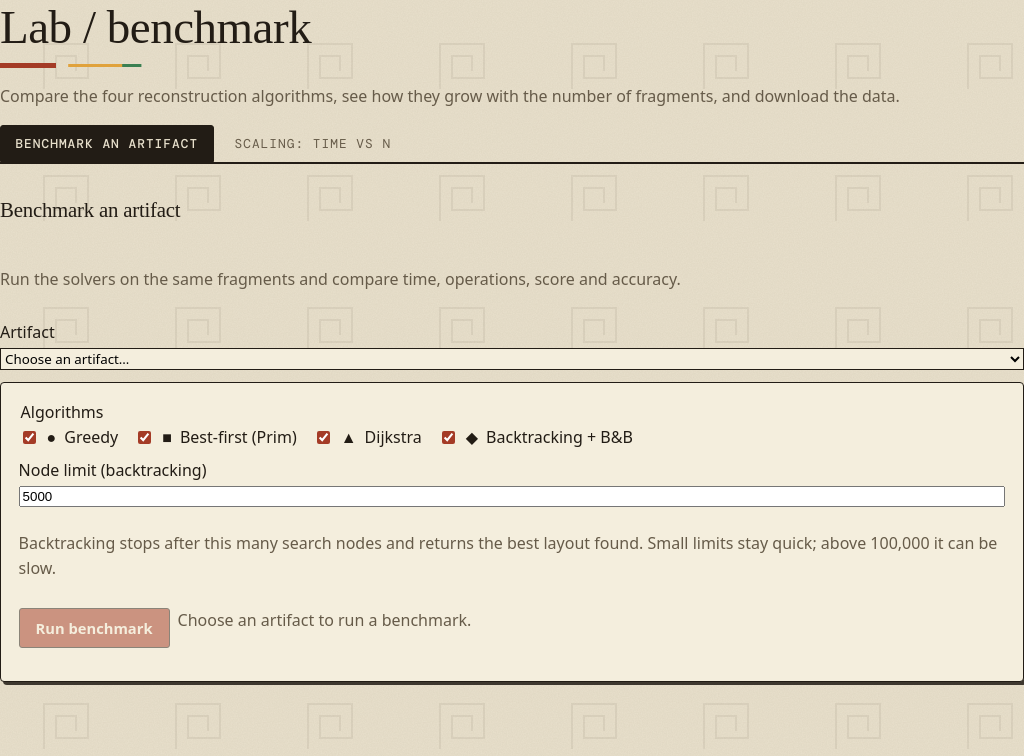
Test: LabPage: scaling › warns about large sizes
The image size is (1024, 756).
Click the tab "Scaling: time vs n" at [313, 144], box x1=219 y1=125 x2=406 y2=162
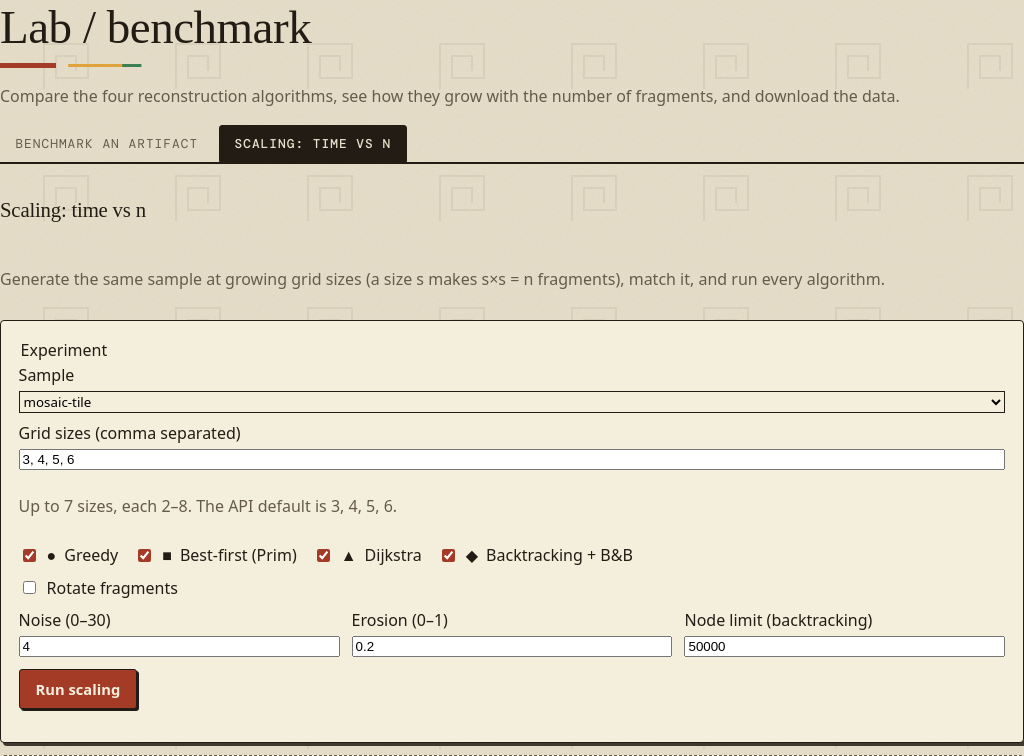
Replace the text in the field labelled "Grid sizes (comma separated)" with "3, 7" at [512, 460], box x1=19 y1=449 x2=1005 y2=470
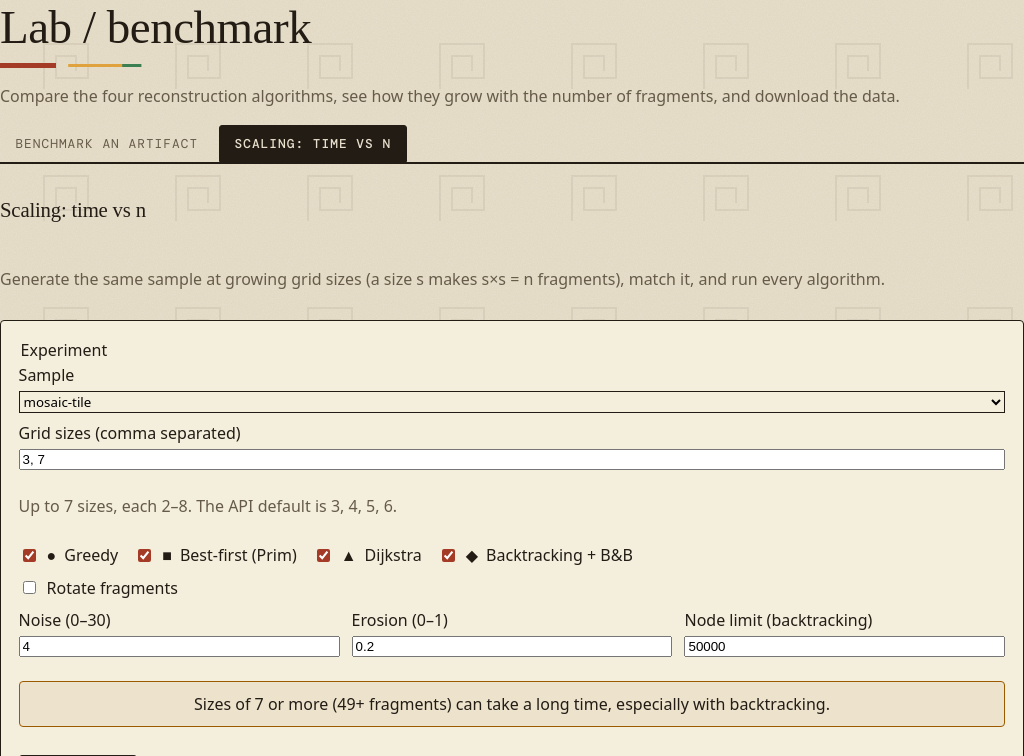
Expected: the text "can take a long time" is shown, x1=194 y1=693 x2=830 y2=715
